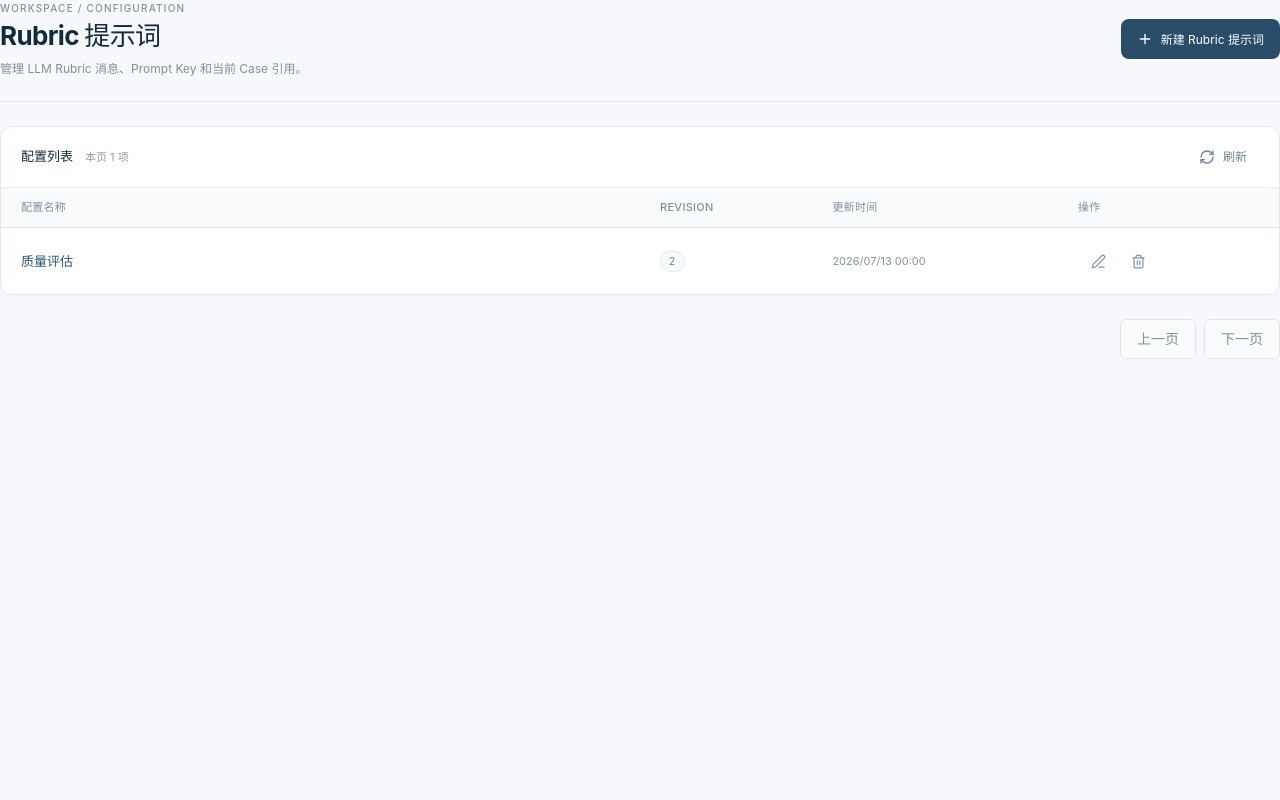
Scenario: 配置资源页面 › Rubric 编辑页显示服务端预览和当前 Case 引用
Click the button named "编辑 质量评估" at (1098, 261), box [1078,245,1119,277]
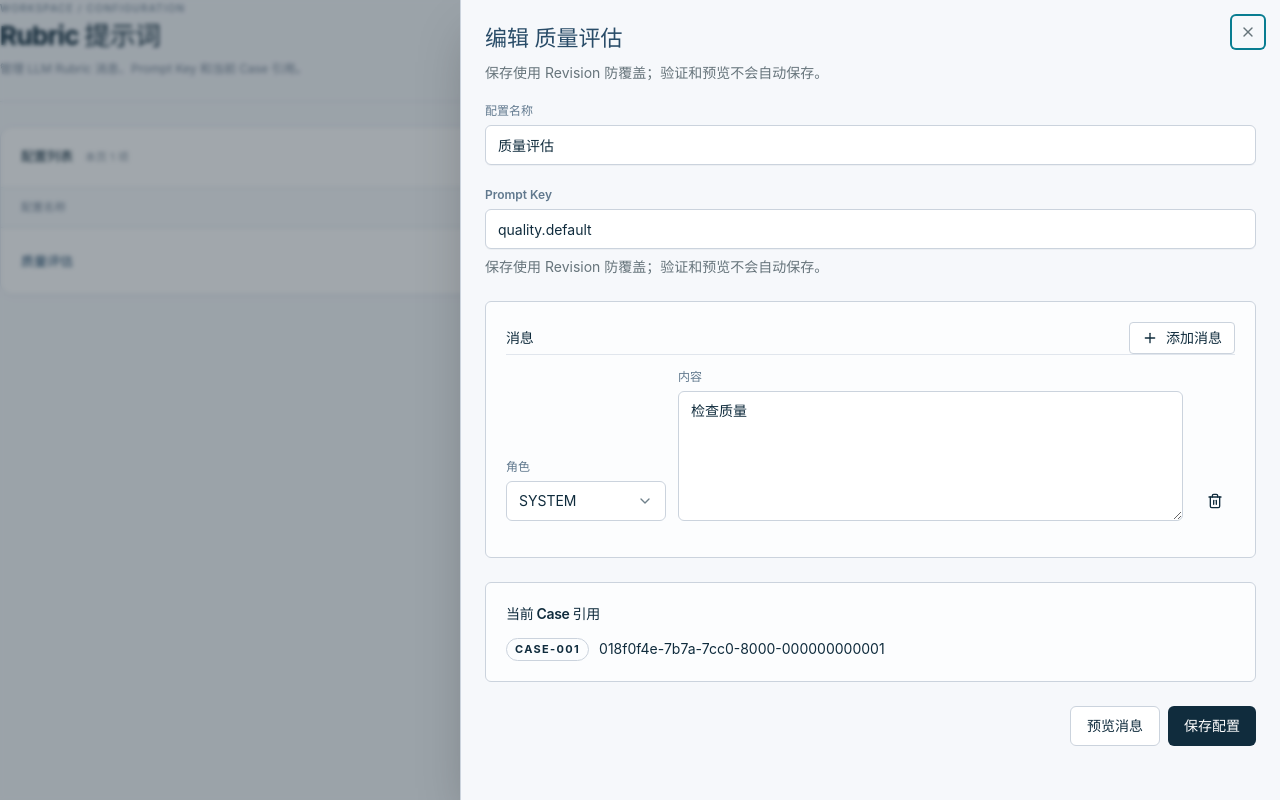
Check: the text "case-001" is shown, box [506,638,589,661]
Click the button "预览消息" at (1115, 726), box [1070,706,1160,746]
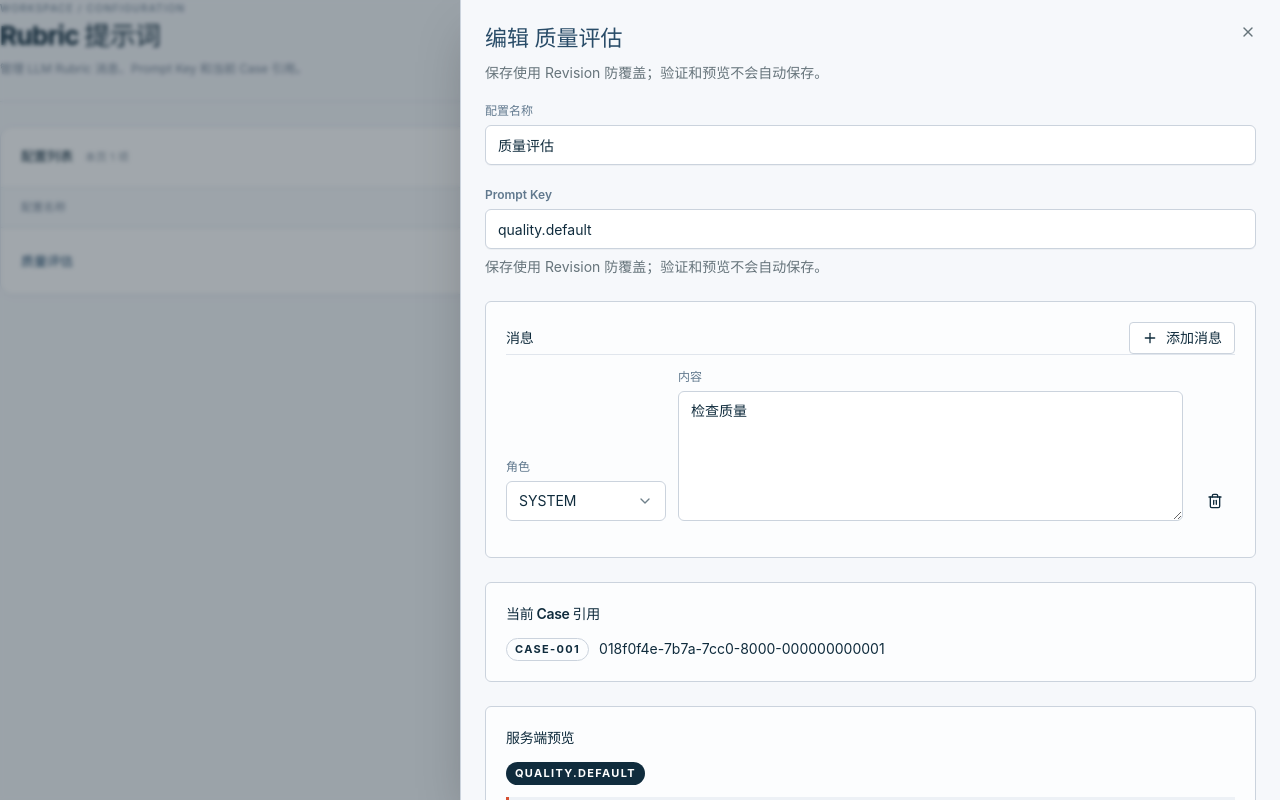
Check: the text "quality.default" is shown, box [506,762,645,785]
